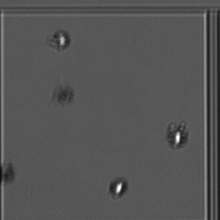Dead Cell: (49, 80, 81, 109), (1, 157, 22, 189)
Living Cell: (162, 119, 193, 151), (48, 26, 77, 54), (107, 174, 133, 203)
